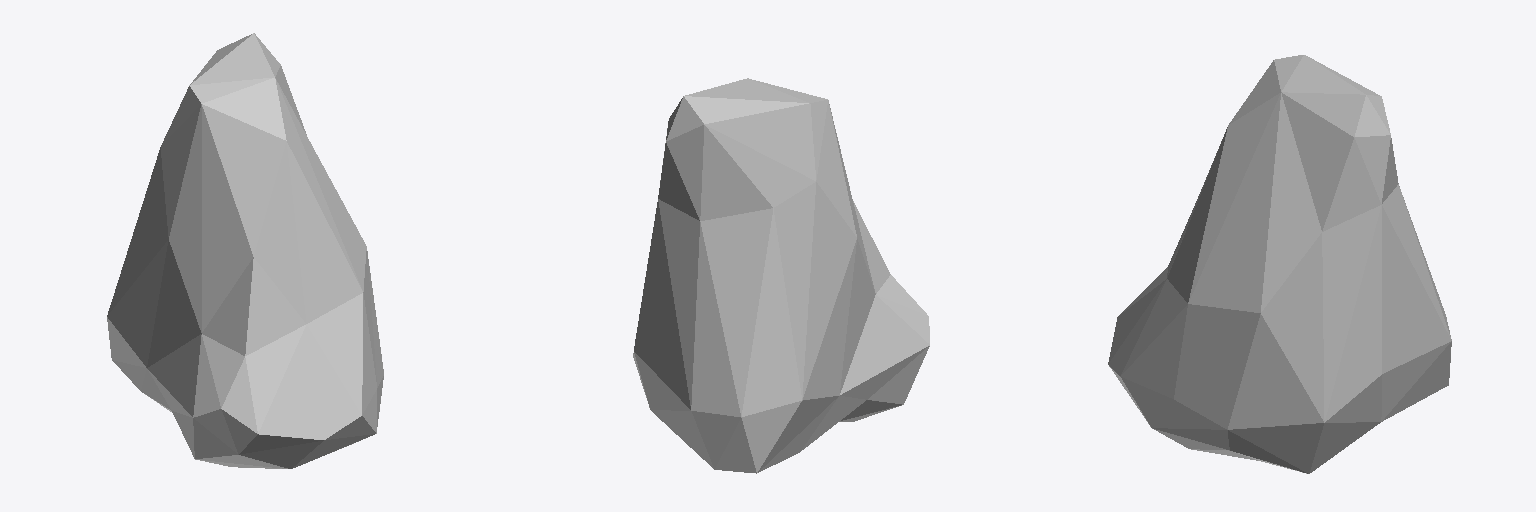
The model's file is rock-2.obj.
3 views of the same model, side by side, from view 1: azimuth 30°, elevation 25°; view 2: azimuth 150°, elevation 25°; view 3: azimuth 270°, elevation 25° (orthographic).
Visible parts, largest first — view 1: Object_462; view 2: Object_462; view 3: Object_462.
Part boxes in pixels (x1,y1,x2,y2): Object_462: (107, 33, 383, 468); Object_462: (633, 78, 929, 473); Object_462: (1108, 55, 1451, 473).
Size of the model in its own units: 5.61 by 8.65 by 7.43.